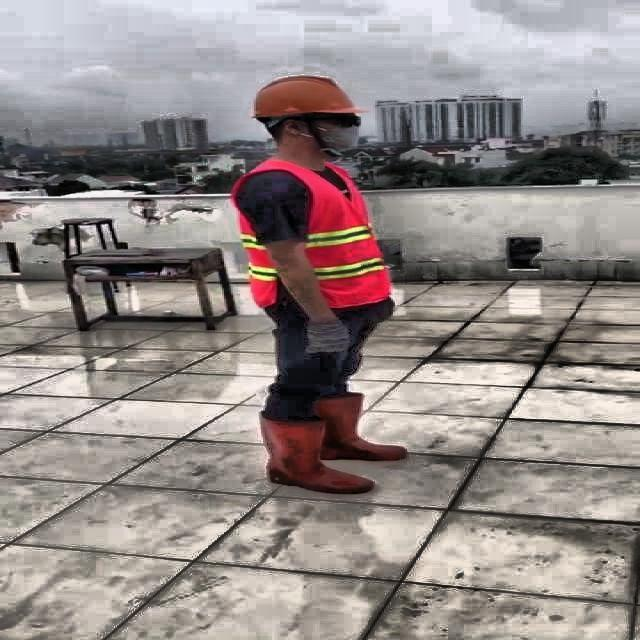safety_helmet: (246, 73, 364, 121)
safety_jacket: (230, 157, 388, 305)
